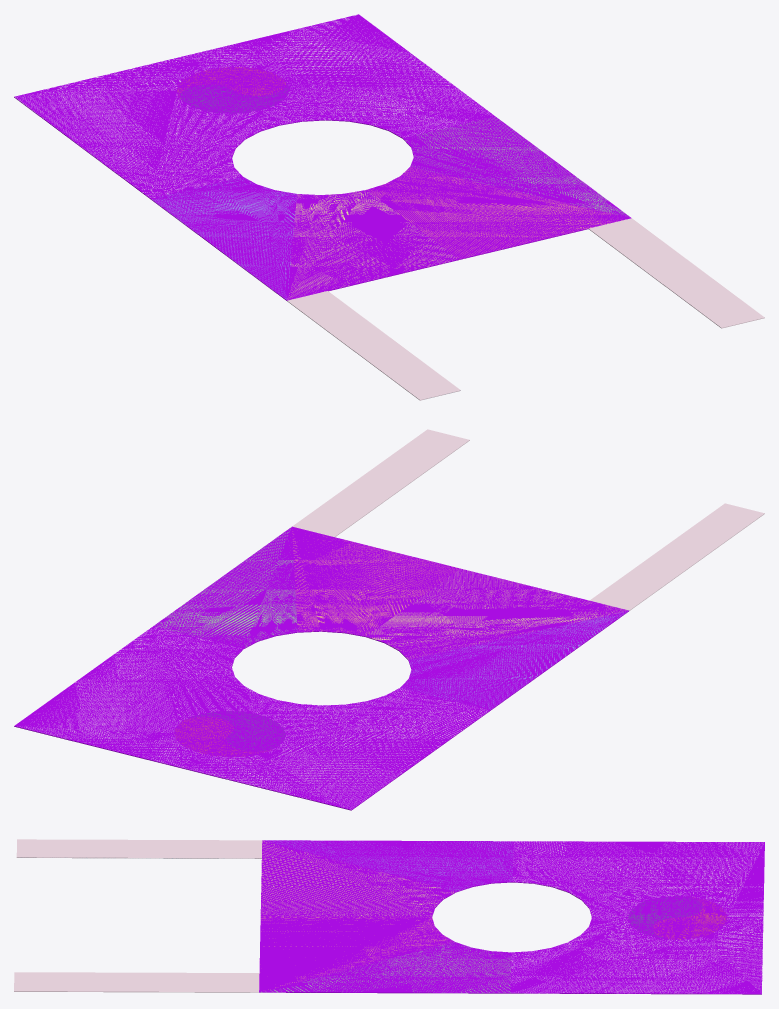
File: kite_9.dae
3 views of the same model, one above another, from view 1: azimuth 30°, elevation 25°; view 2: azimuth 150°, elevation 25°; view 3: azimuth 270°, elevation 25° (orthographic). The views are drawn at different scales.
Visible parts, largest first — view 1: Body.005, Body, Body.008, Body.006, Body.004, group_2, group_0.002, Body.003, group_3; view 2: Body.005, Body.008, Body, Body.004, Body.006, group_2, group_0.002, Body.003, group_3, Body.001; view 3: Body.005, Body, Body.008, Body.006, Body.004, group_2, group_0.002, group_3, Body.003, Body.001, group_0.001.
Boxes of the visible parts, x1=… form: Body.005: x1=14, y1=14, x2=494, y2=198; Body: x1=366, y1=167, x2=631, y2=259; Body.008: x1=287, y1=190, x2=458, y2=300; Body.006: x1=403, y1=116, x2=630, y2=217; Body.004: x1=151, y1=176, x2=296, y2=300; group_2: x1=589, y1=218, x2=764, y2=328; group_0.002: x1=287, y1=291, x2=460, y2=399; Body.003: x1=180, y1=81, x2=289, y2=113; group_3: x1=176, y1=67, x2=285, y2=98; Body.005: x1=14, y1=626, x2=489, y2=809; Body.008: x1=366, y1=568, x2=628, y2=659; Body: x1=292, y1=526, x2=460, y2=636; Body.004: x1=400, y1=610, x2=628, y2=710; Body.006: x1=153, y1=527, x2=297, y2=648; group_2: x1=292, y1=429, x2=469, y2=537; group_0.002: x1=590, y1=503, x2=764, y2=610; Body.003: x1=186, y1=711, x2=285, y2=751; group_3: x1=174, y1=716, x2=273, y2=757; Body.001: x1=14, y1=611, x2=628, y2=810; Body.005: x1=510, y1=841, x2=764, y2=993; Body: x1=259, y1=916, x2=454, y2=991; Body.008: x1=260, y1=840, x2=455, y2=916; Body.006: x1=259, y1=942, x2=511, y2=992; Body.004: x1=263, y1=840, x2=513, y2=891; group_2: x1=14, y1=972, x2=259, y2=992; group_0.002: x1=16, y1=839, x2=262, y2=858; group_3: x1=652, y1=896, x2=727, y2=939; Body.003: x1=628, y1=896, x2=702, y2=939; Body.001: x1=259, y1=850, x2=764, y2=994; group_0.001: x1=16, y1=857, x2=261, y2=858.
Size of the model in its own units: 5.26 by 10.81 by 0.00852.
